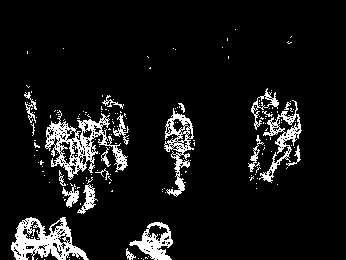person: (42, 107, 79, 211), (259, 100, 303, 184), (246, 86, 285, 180), (160, 100, 196, 198), (73, 109, 102, 216), (98, 92, 131, 176)
